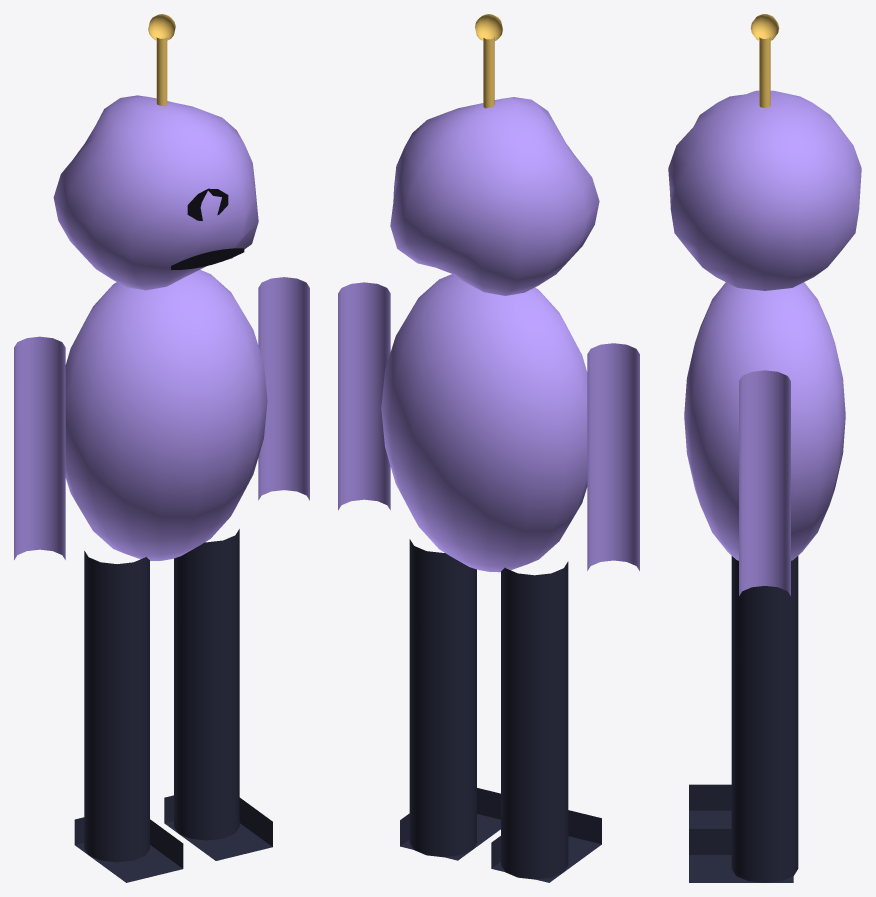
The model's file is agent.mib-trellune.glb.
The picture shows the model from 3 angles, left to right: view 1: azimuth 30°, elevation 25°; view 2: azimuth 150°, elevation 25°; view 3: azimuth 270°, elevation 25°; orthographic projection. The views are drawn at different scales.
Parts seen in each view (by area): view 1: body, legs, head, face, antenna; view 2: body, legs, head, antenna; view 3: body, head, legs, antenna.
Boxes of the visible parts, x1=… form: body: x1=14, y1=270, x2=309, y2=560; legs: x1=74, y1=529, x2=272, y2=882; head: x1=53, y1=95, x2=258, y2=290; face: x1=171, y1=188, x2=244, y2=269; antenna: x1=148, y1=14, x2=175, y2=106; body: x1=338, y1=274, x2=639, y2=572; legs: x1=400, y1=539, x2=601, y2=882; head: x1=390, y1=97, x2=599, y2=295; antenna: x1=475, y1=14, x2=502, y2=108; body: x1=684, y1=282, x2=845, y2=595; head: x1=668, y1=90, x2=861, y2=290; legs: x1=689, y1=556, x2=798, y2=882; antenna: x1=750, y1=14, x2=779, y2=107.
Size of the model in its own units: 0.7384 by 2.01 by 0.4233.
